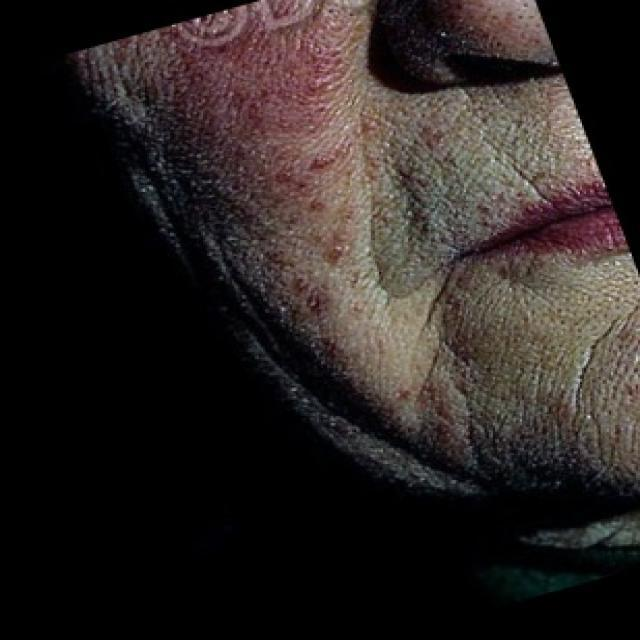Rosacea: (168, 21, 356, 333)
